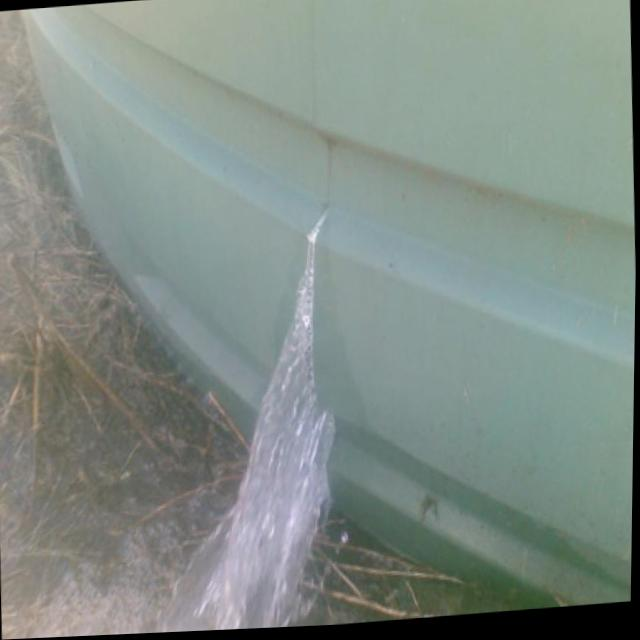leak: (162, 210, 333, 632)
